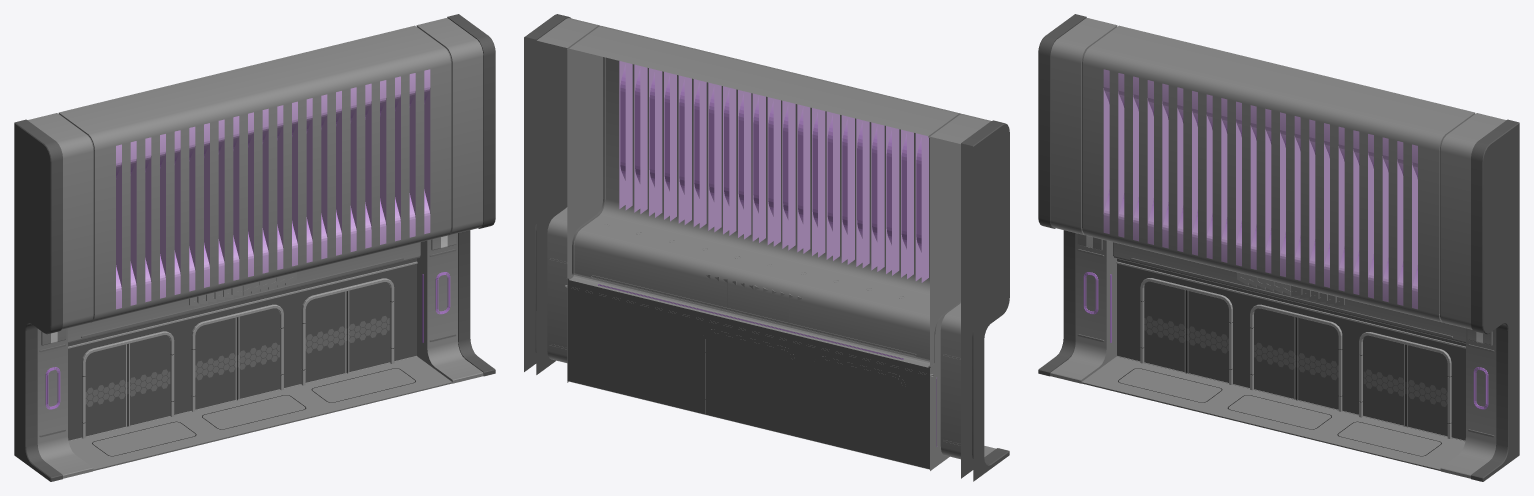
Rendered from Wall_Door_14x10x2_001_L0.fbx.
3 renders of one model, left to right at view 1: azimuth 30°, elevation 25°; view 2: azimuth 150°, elevation 25°; view 3: azimuth 330°, elevation 25°, orthographic.
Parts seen in each view (by area): view 1: Wall_Door_14x10x2_001_L0; view 2: Wall_Door_14x10x2_001_L0; view 3: Wall_Door_14x10x2_001_L0.
Boxes of the visible parts, x1,y1,x2,y2 form: Wall_Door_14x10x2_001_L0: (14,14,495,481); Wall_Door_14x10x2_001_L0: (524,14,1009,481); Wall_Door_14x10x2_001_L0: (1038,14,1519,481).
Size of the model in its own units: 14 by 10 by 2.
